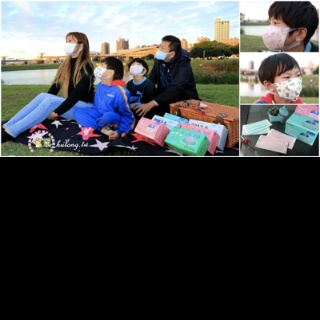with_mask: (276, 69, 303, 102), (261, 19, 288, 51), (92, 62, 107, 80), (63, 38, 77, 55), (154, 42, 167, 60), (128, 63, 143, 76)
